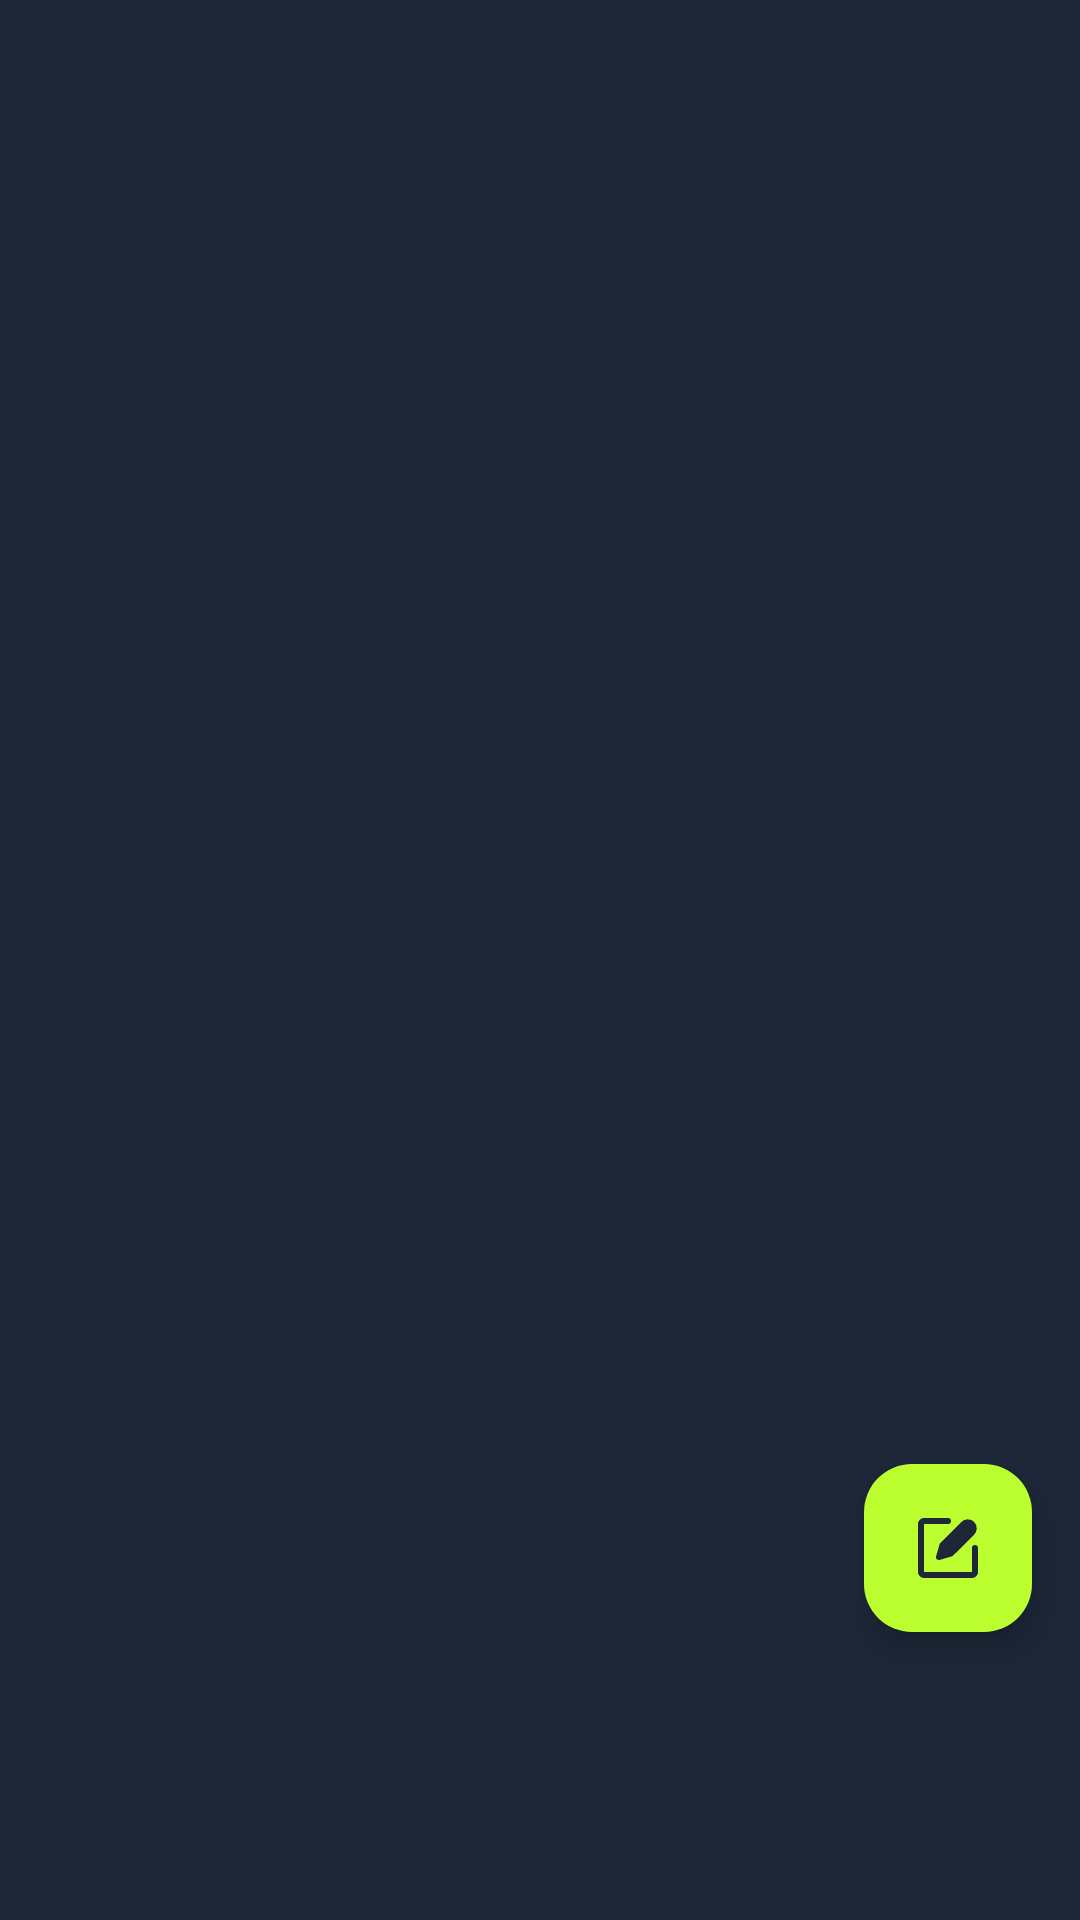

Locate icon controls on the screen. Image size 1080px×1920px, boxes as [x1=x1, y1=y1, x2=x2, y2=y2].
Create a new post: [x1=864, y1=1464, x2=1032, y2=1632]
